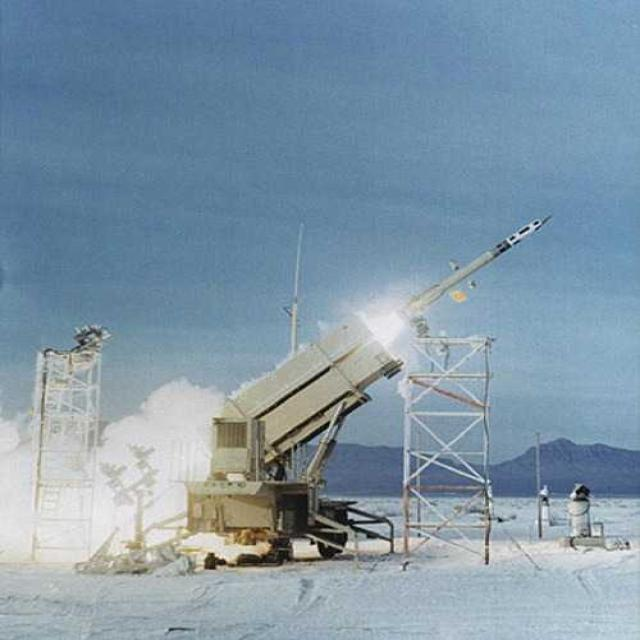missile: (392, 218, 564, 323)
